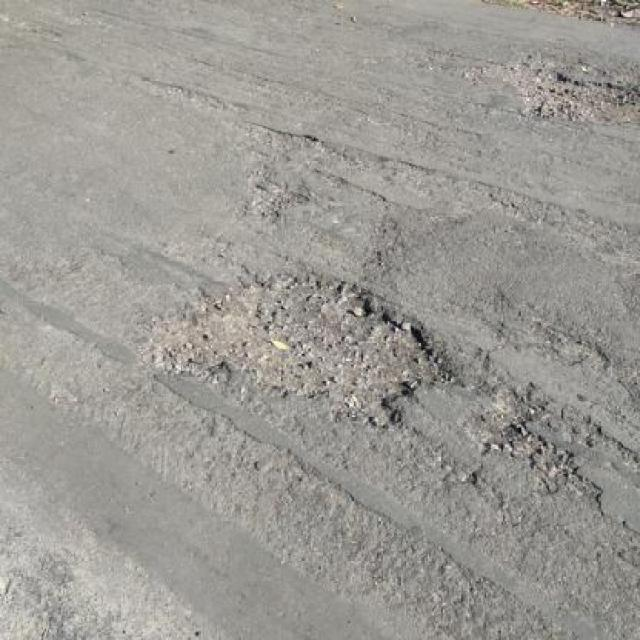Pothole: (131, 260, 461, 434), (456, 46, 640, 126), (456, 383, 548, 452), (239, 177, 313, 221)
